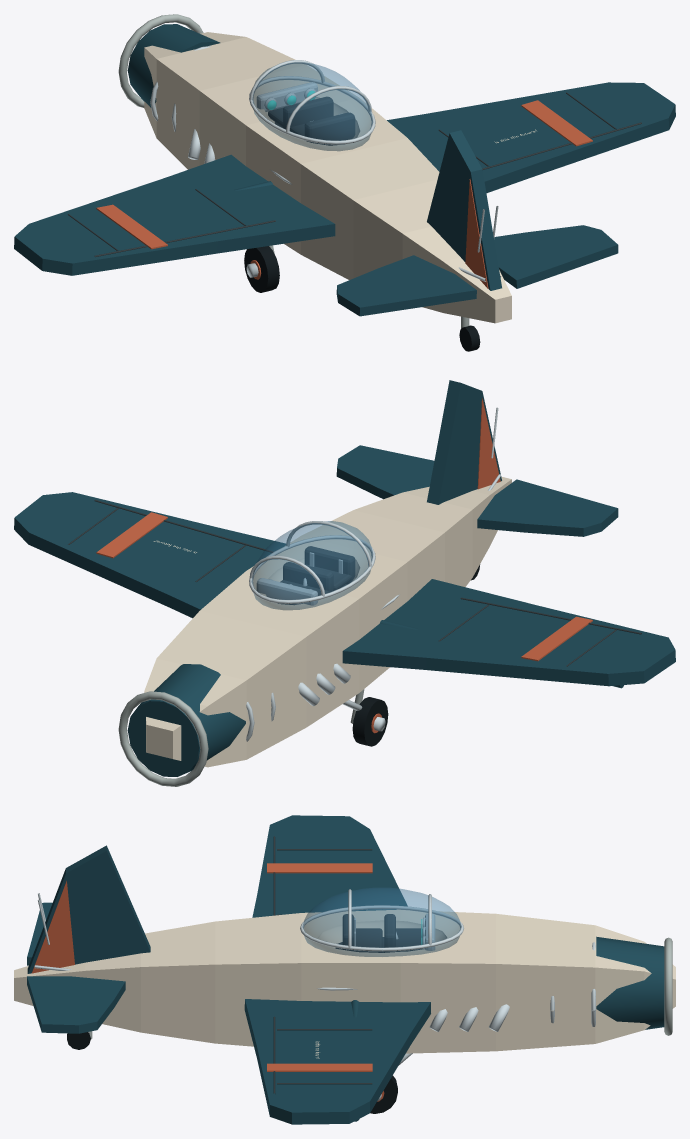
Rendered from classic-DaKljN8A.glb.
3 views of the same model, one above another, from view 1: azimuth 30°, elevation 25°; view 2: azimuth 150°, elevation 25°; view 3: azimuth 270°, elevation 25° (orthographic). The views are drawn at different scales.
Parts seen in each view (by area): view 1: classic; view 2: classic; view 3: classic.
Boxes of the visible parts, x1=… form: classic: x1=14, y1=14, x2=675, y2=351; classic: x1=14, y1=380, x2=675, y2=786; classic: x1=14, y1=815, x2=675, y2=1124.
Size of the model in its own units: 5.47 by 2.04 by 5.14.
